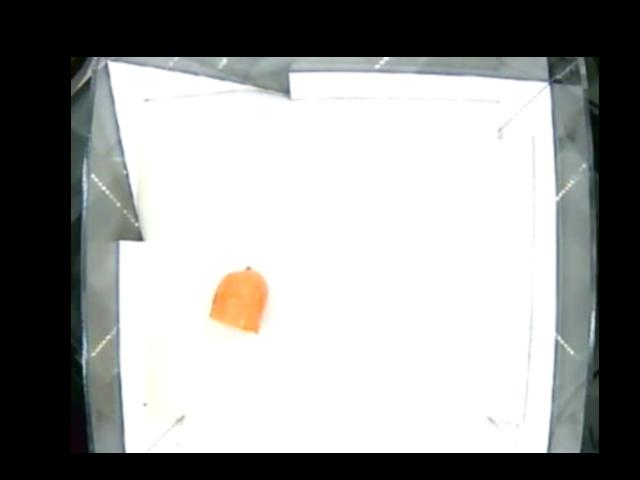Carrot: (211, 267, 267, 335)
